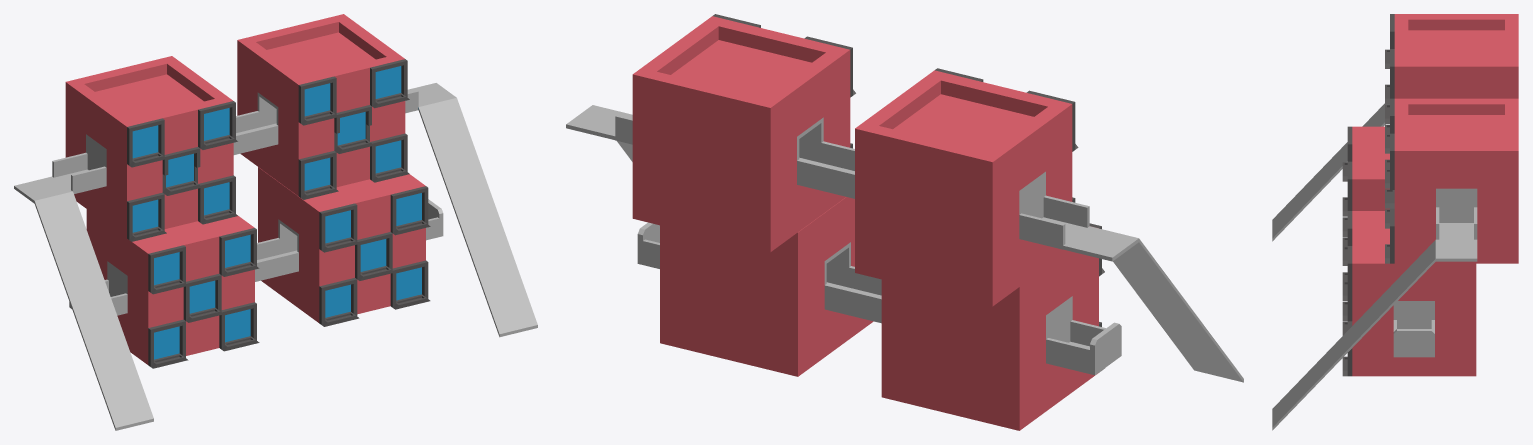
File: Rubix cube red.fbx
3 renders of one model, left to right at view 1: azimuth 30°, elevation 25°; view 2: azimuth 150°, elevation 25°; view 3: azimuth 270°, elevation 25°, orthographic. The views are drawn at different scales.
Visible parts, largest first — view 1: Cube; view 2: Cube; view 3: Cube.
Boxes of the visible parts, left/top/right/bottom form: Cube: left=14, top=14, right=537, bottom=430; Cube: left=566, top=14, right=1243, bottom=430; Cube: left=1272, top=14, right=1518, bottom=430.
Bounding box in the file's own units: 29355 × 16083 × 14701.
